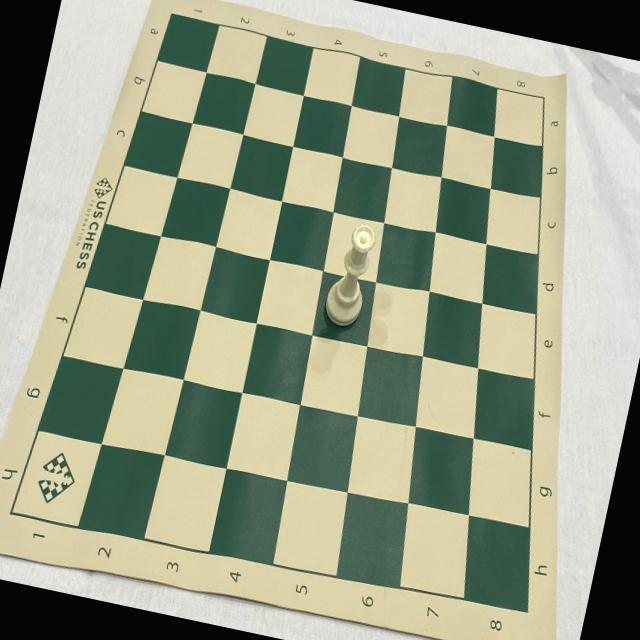white-queen: (320, 218, 380, 333)
